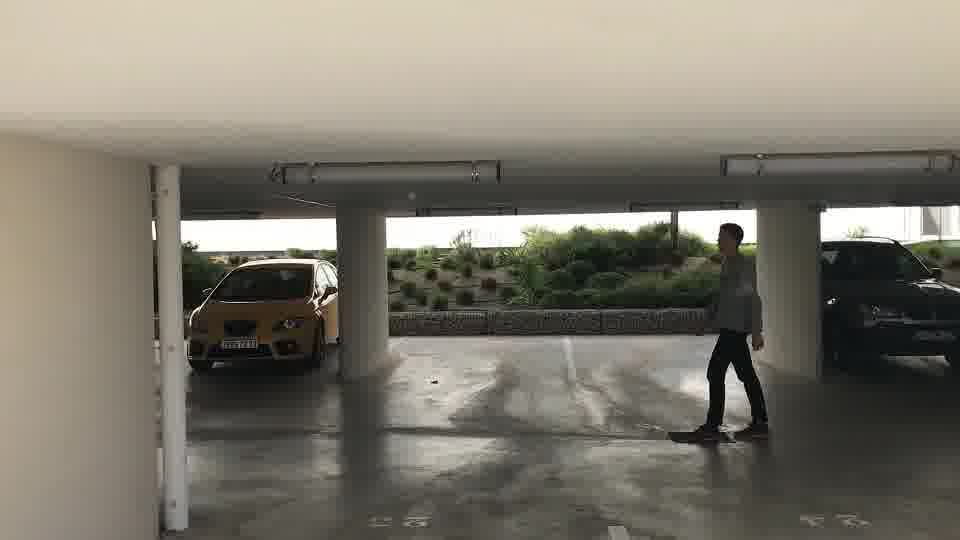jugador: (661, 222, 785, 447)
